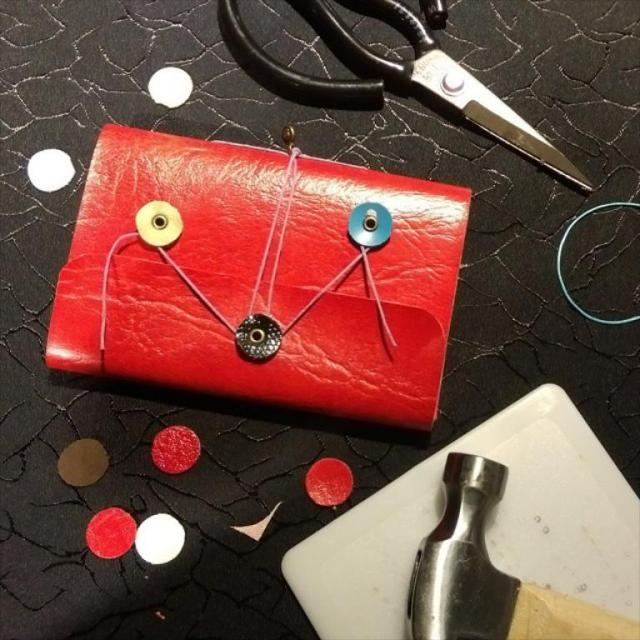scissor: (219, 0, 594, 193)
